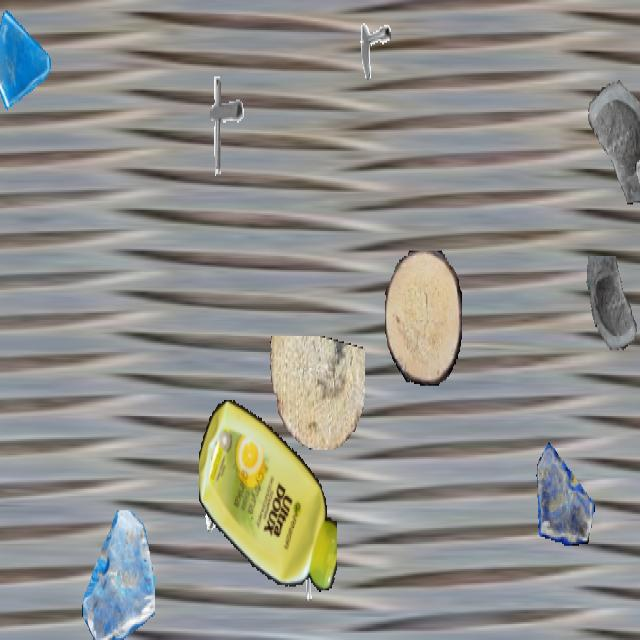glass: (82, 510, 154, 638), (578, 57, 640, 203), (583, 256, 640, 366), (0, 1, 53, 116), (536, 441, 594, 544), (634, 155, 640, 286)
metal: (192, 71, 252, 178), (199, 453, 245, 535), (291, 535, 335, 613), (349, 4, 391, 78)
plastic: (199, 393, 337, 599)
wood: (267, 336, 365, 450), (385, 250, 461, 386)
